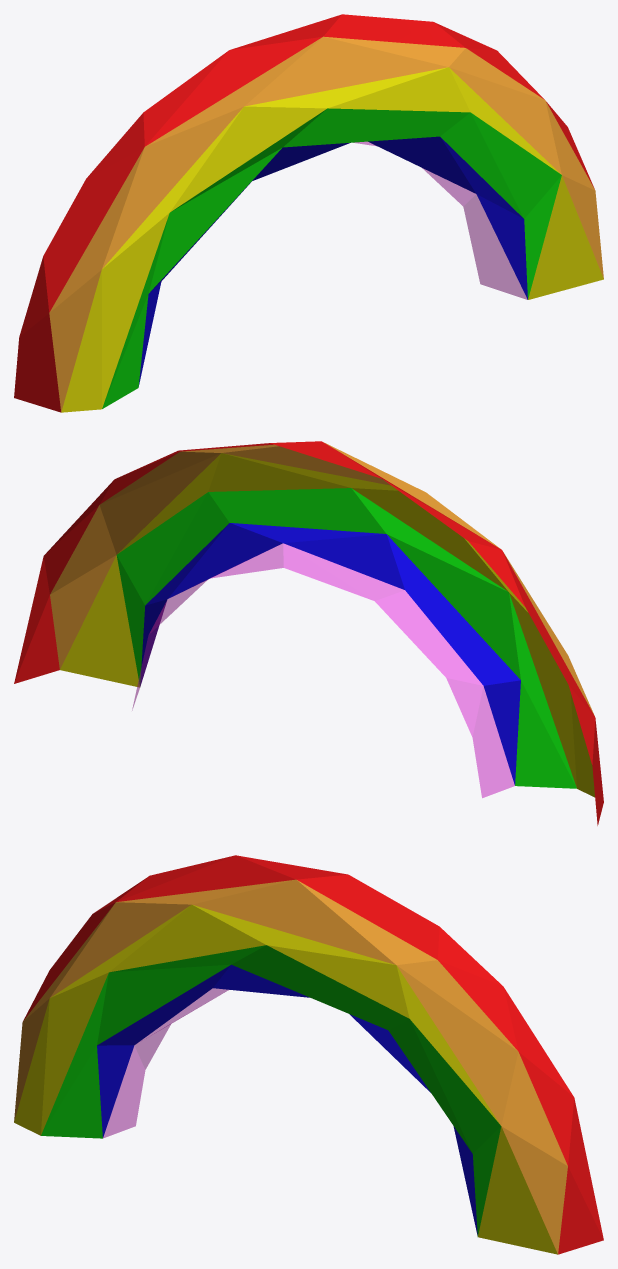
The model's file is Rainbow.fbx.
The picture shows the model from 3 angles, top to bottom: view 1: azimuth 30°, elevation 25°; view 2: azimuth 150°, elevation 25°; view 3: azimuth 330°, elevation 25°; orthographic projection.
Visible parts, largest first — view 1: Torus_0, Torus_5, Torus_4, Torus_2, Torus_3, Torus_1; view 2: Torus_2, Torus_5, Torus_3, Torus_0, Torus_1, Torus_4; view 3: Torus_0, Torus_5, Torus_2, Torus_4, Torus_3, Torus_1.
Boxes of the visible parts, x1,y1,x2,y2 form: Torus_0: [49, 36, 603, 411]; Torus_5: [61, 67, 603, 412]; Torus_4: [14, 14, 594, 412]; Torus_2: [102, 108, 561, 408]; Torus_3: [138, 136, 527, 386]; Torus_1: [354, 141, 527, 299]; Torus_2: [116, 488, 576, 788]; Torus_5: [60, 453, 594, 797]; Torus_3: [140, 523, 520, 784]; Torus_0: [50, 442, 594, 715]; Torus_1: [132, 543, 514, 797]; Torus_4: [14, 441, 603, 825]; Torus_0: [14, 879, 567, 1253]; Torus_5: [14, 904, 557, 1254]; Torus_2: [41, 945, 501, 1236]; Torus_4: [23, 855, 603, 1254]; Torus_3: [97, 964, 477, 1235]; Torus_1: [103, 988, 228, 1138].
Size of the model in its own units: 251 by 125 by 25.15.
